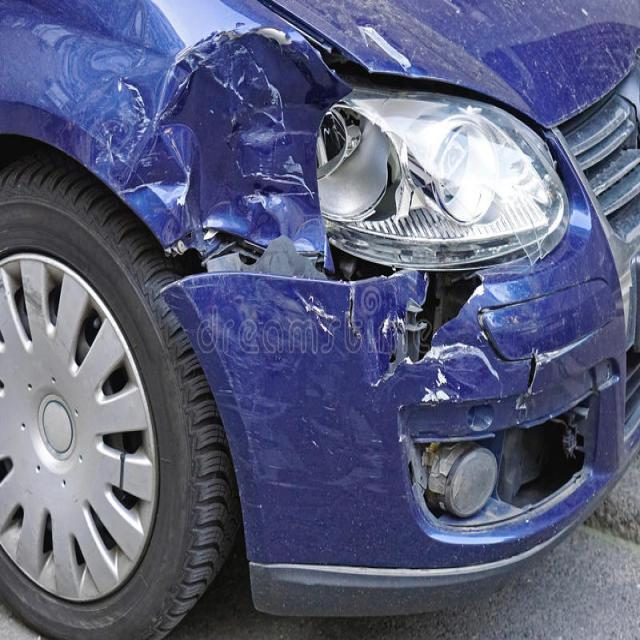Headlight-Damage: (287, 91, 566, 244)
fender-dent: (0, 0, 296, 413)
front-bumper-dent: (171, 244, 636, 628)
